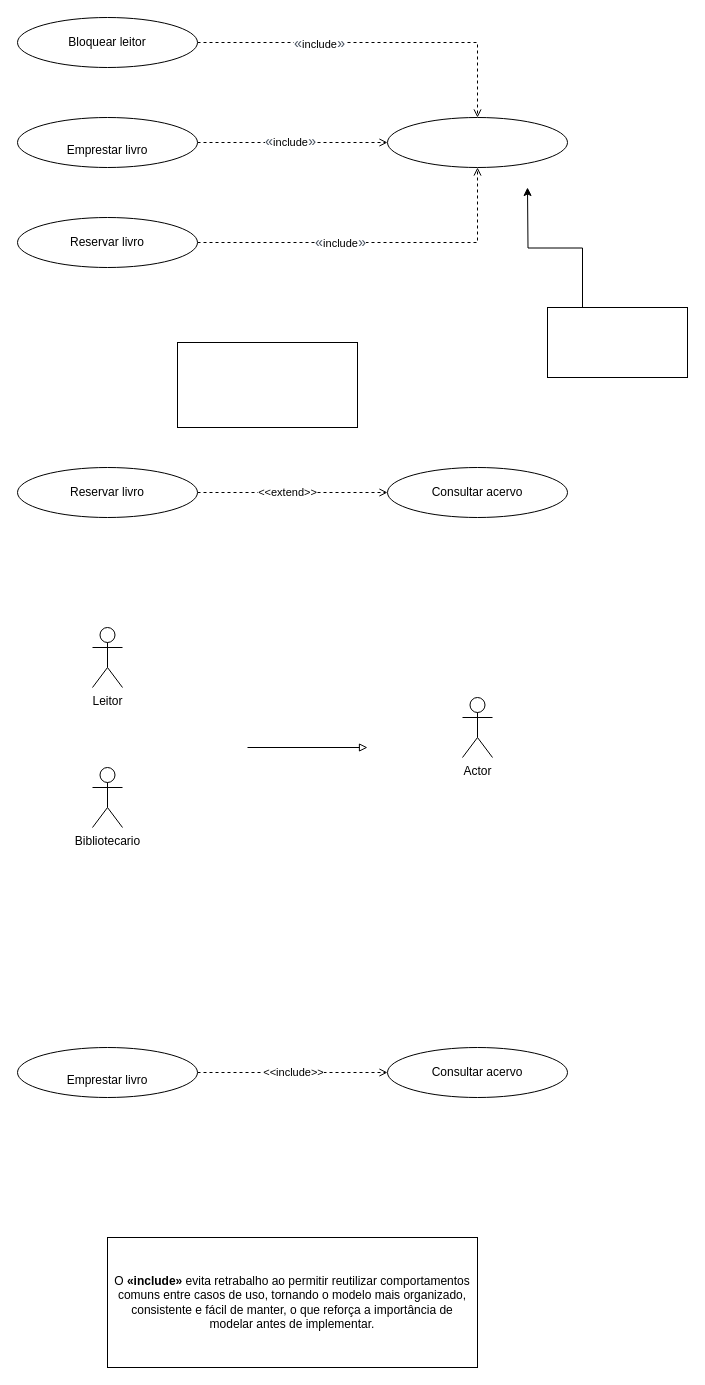
This 705x1385 diagram has some shape labels left out. Here are the shapes that lost their labels. From the top down, the centre of each, then its label:
point 477,142: Identificar leitor
point 617,342: São include porque eles obrigatoriamente terão que consultar o usuario
point 267,385: É extend porque não é obrigatório consultar o acervo para reservar
